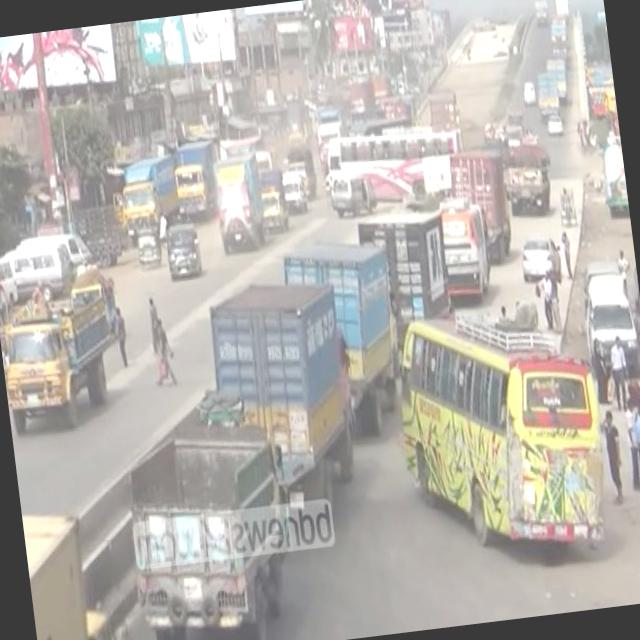bus: (386, 292, 616, 556), (324, 116, 472, 210), (440, 190, 495, 298), (282, 164, 312, 213)
car: (519, 230, 564, 278), (545, 106, 566, 132)
motorcycle: (136, 218, 166, 268)
truck: (117, 410, 301, 640), (204, 270, 368, 512), (281, 222, 414, 439), (0, 282, 122, 432), (356, 204, 458, 332), (447, 143, 519, 266), (212, 145, 270, 248), (116, 147, 184, 234), (581, 272, 640, 366), (11, 233, 77, 299), (503, 138, 555, 215), (172, 138, 220, 212), (328, 166, 381, 218), (163, 217, 204, 279), (258, 166, 294, 233), (286, 139, 320, 193), (534, 66, 563, 115), (546, 52, 570, 100)
